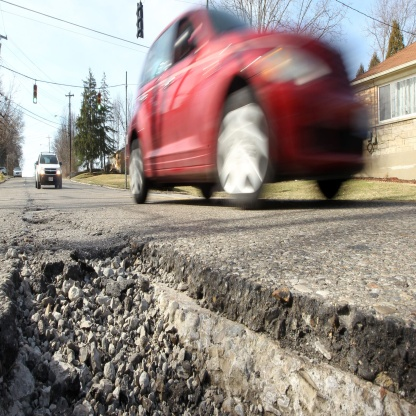pothole: (1, 228, 416, 414)
